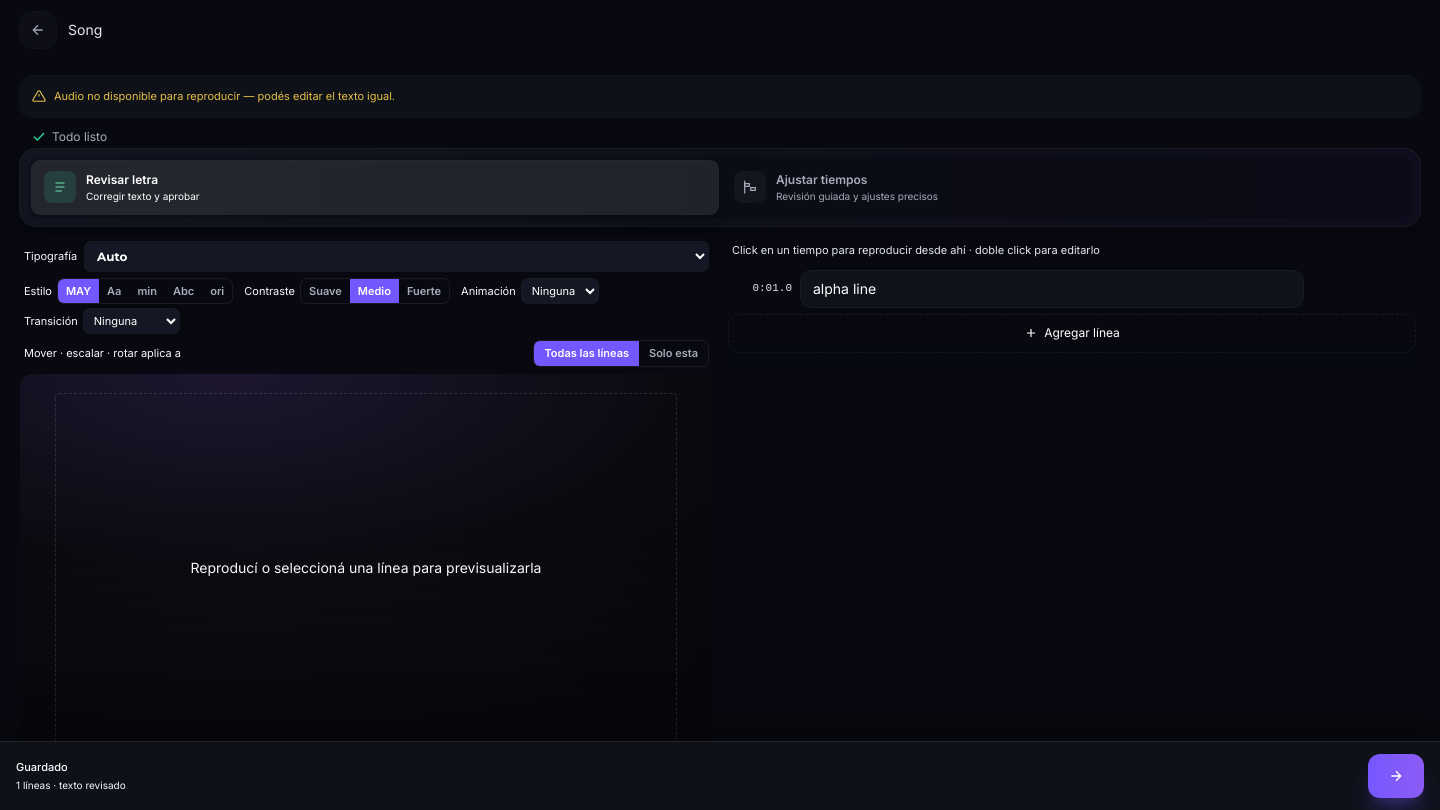
Scenario: banner de fallo de respaldo — copy por causa › un 401 muestra 'tu sesión venció', NO 'problema de red'
Step 1. Replace the text in the field showing "alpha line" with "alpha line editada" → (1052, 289), box [800,270,1304,308]
Wait 3100 ms
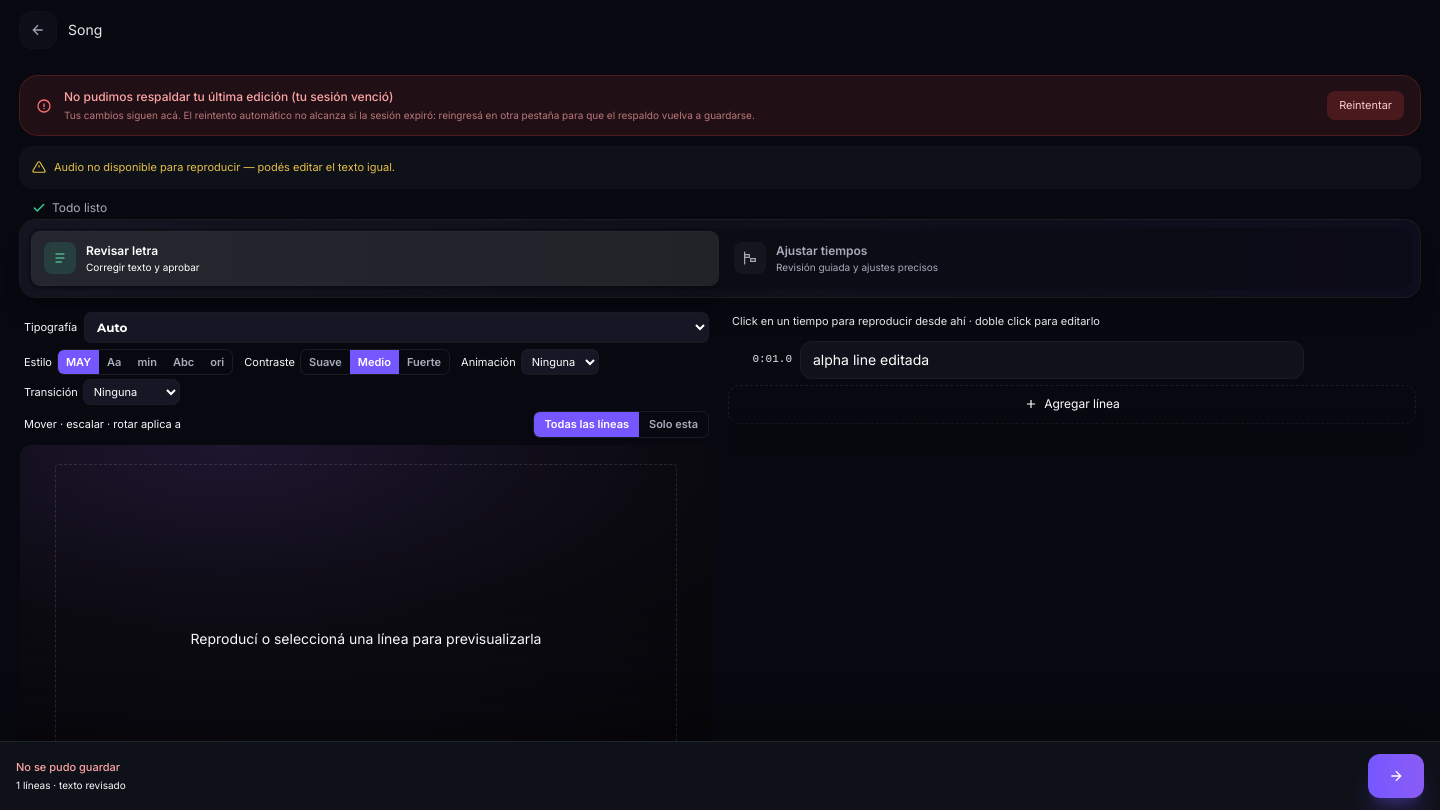
Check: the text "No pudimos respaldar tu última edición (tu sesión venció)" is shown, box [64,89,393,104]
